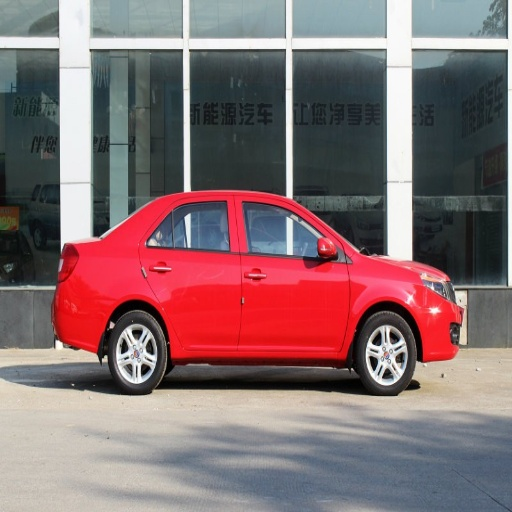back_right_door: (142, 196, 242, 350)
front_right_door: (238, 197, 348, 352)
